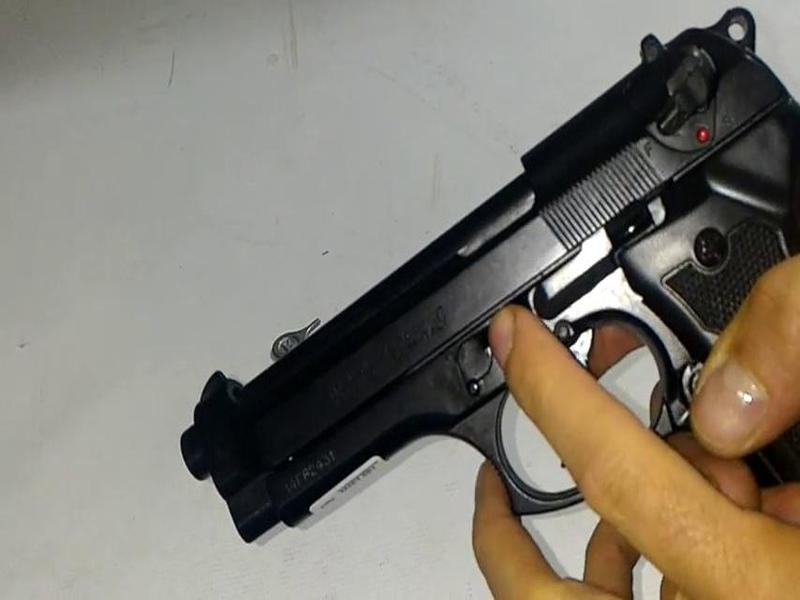Pistola: (154, 11, 800, 548)
